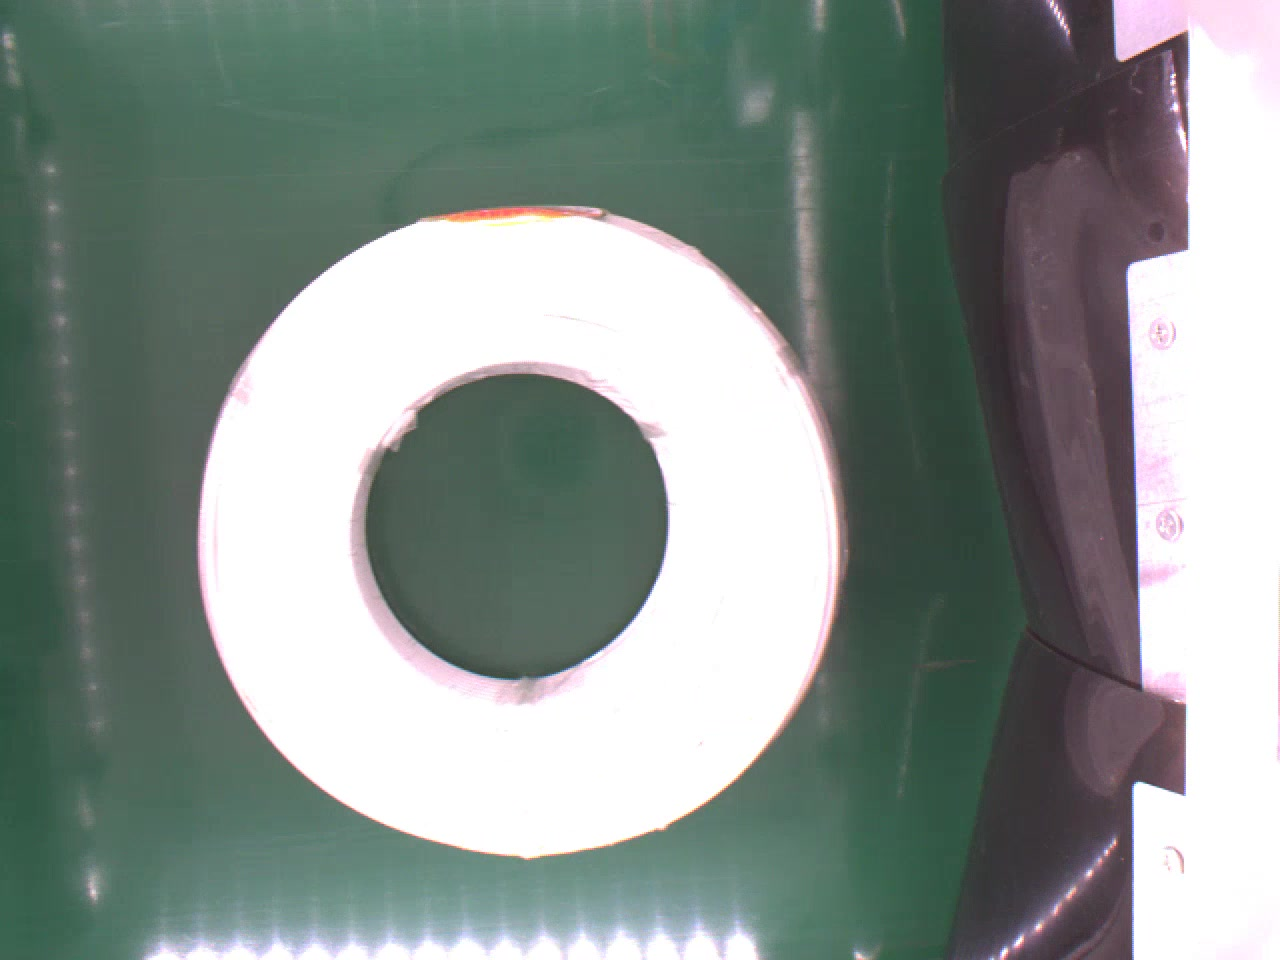white: (193, 198, 862, 867)
